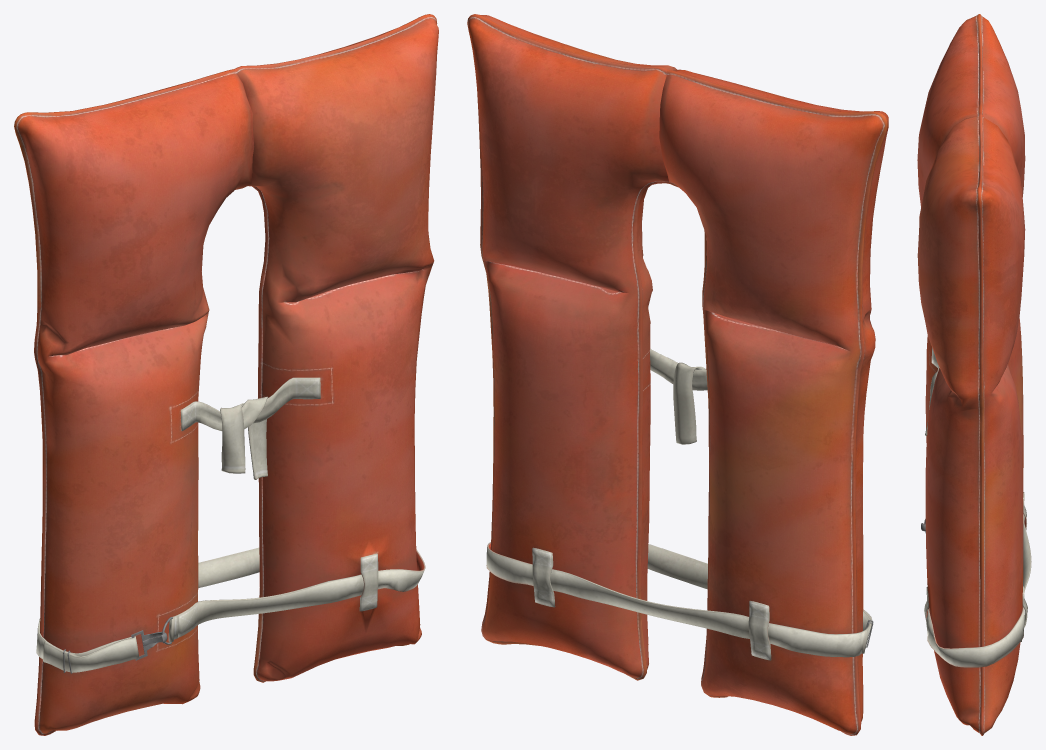
The picture shows the model from 3 angles, left to right: view 1: azimuth 30°, elevation 25°; view 2: azimuth 150°, elevation 25°; view 3: azimuth 270°, elevation 25°; orthographic projection. The views are drawn at different scales.
Parts seen in each view (by area): view 1: life_jacket; view 2: life_jacket; view 3: life_jacket.
Boxes of the visible parts, x1,y1,x2,y2 form: life_jacket: (14,14,438,735); life_jacket: (467,14,888,735); life_jacket: (917,14,1031,735).
Size of the model in its own units: 0.6956 by 0.9923 by 0.1842.
Materials: 1 (1 with a texture image).
